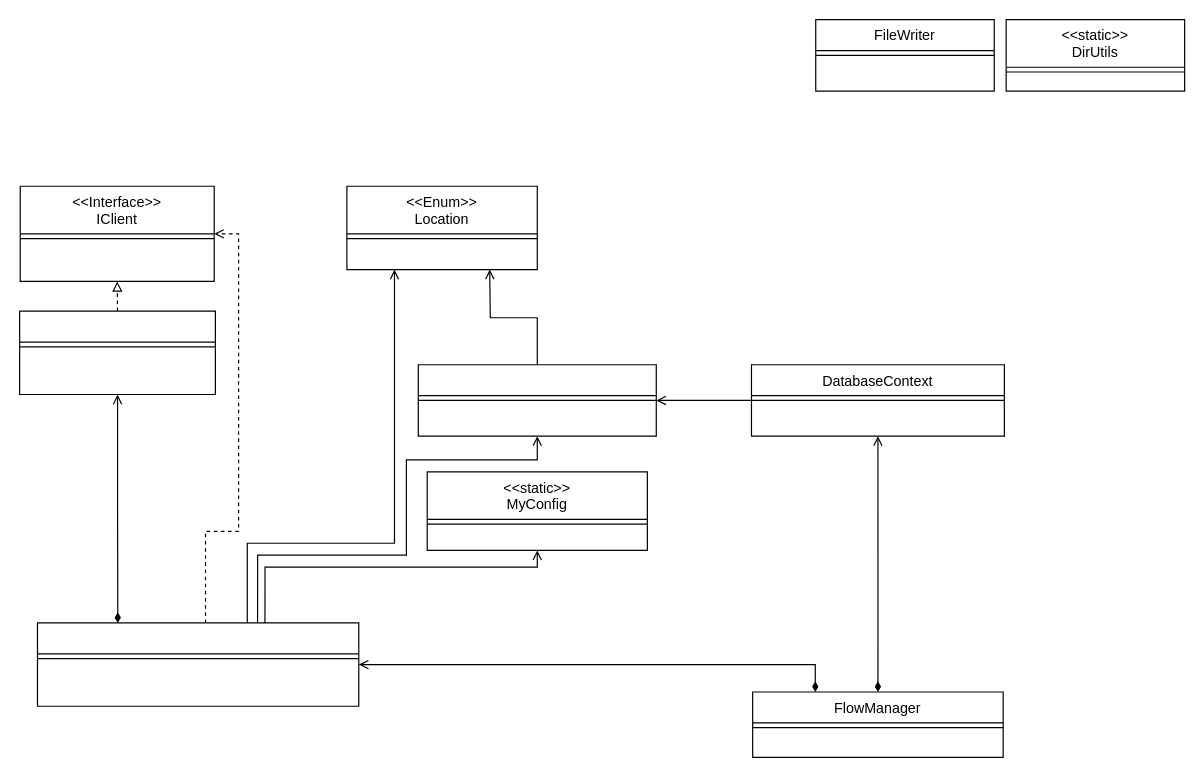
The diagram is 1204 pixels wide and 777 high, and some of its shapes have lost their labels. Here are the shapes that lost their labels. From the top down, the centre of each, then its label:
the point at 116,352: Client
the point at 536,400: ElectricityPriceDTO
the point at 197,664: ApiHandler
